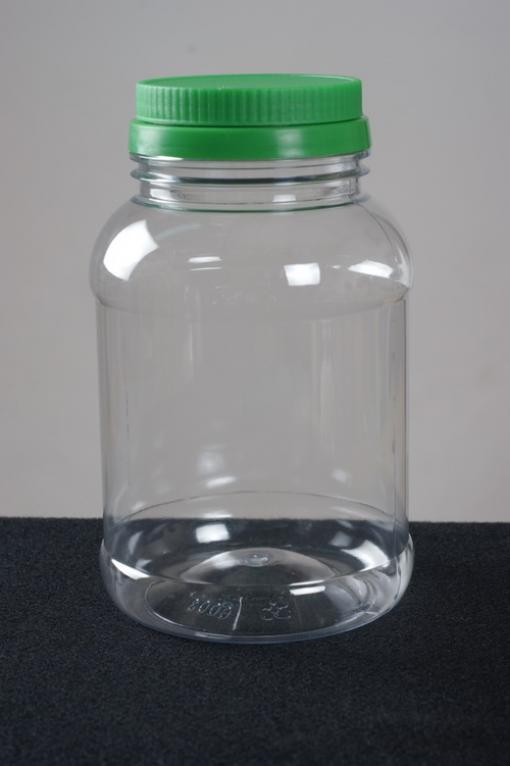plastic: (77, 67, 417, 630)
